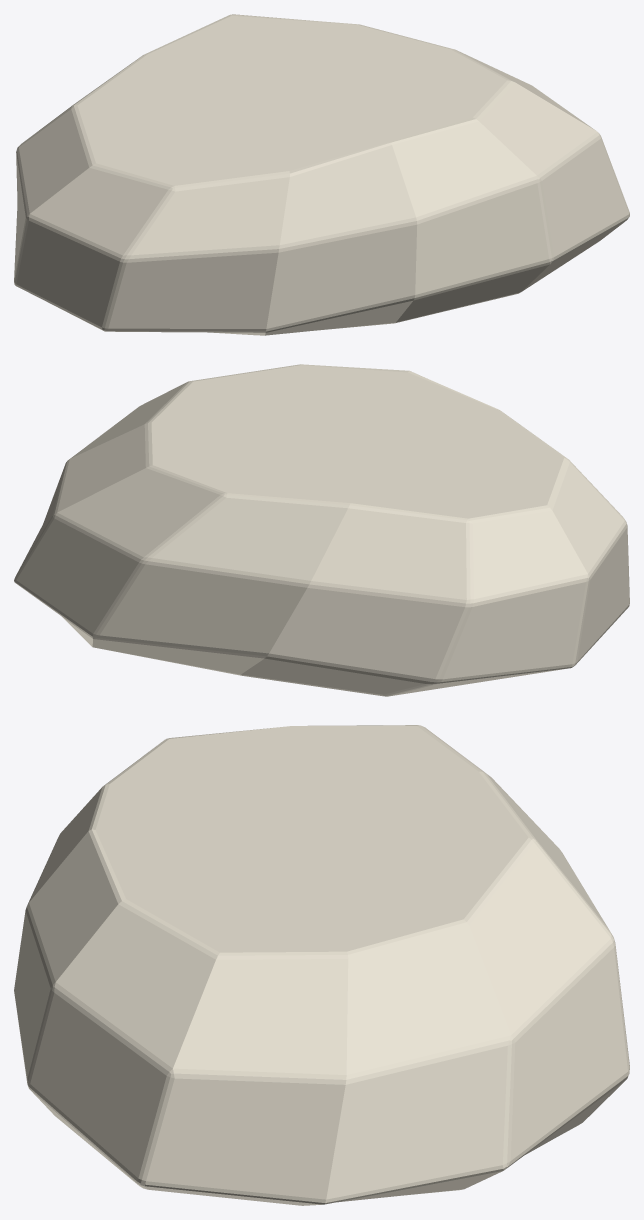
File: Test_CheonRef_FlatRock.fbx
3 renders of one model, top to bottom at view 1: azimuth 30°, elevation 25°; view 2: azimuth 150°, elevation 25°; view 3: azimuth 270°, elevation 25°, orthographic. The views are drawn at different scales.
Visible parts, largest first — view 1: FlatGraniteStone; view 2: FlatGraniteStone; view 3: FlatGraniteStone.
Boxes of the visible parts, left/top/right/bottom form: FlatGraniteStone: left=14, top=14, right=629, bottom=335; FlatGraniteStone: left=14, top=364, right=629, bottom=696; FlatGraniteStone: left=14, top=725, right=629, bottom=1205.
Bounding box in the file's own units: 152 × 45.16 × 116.
